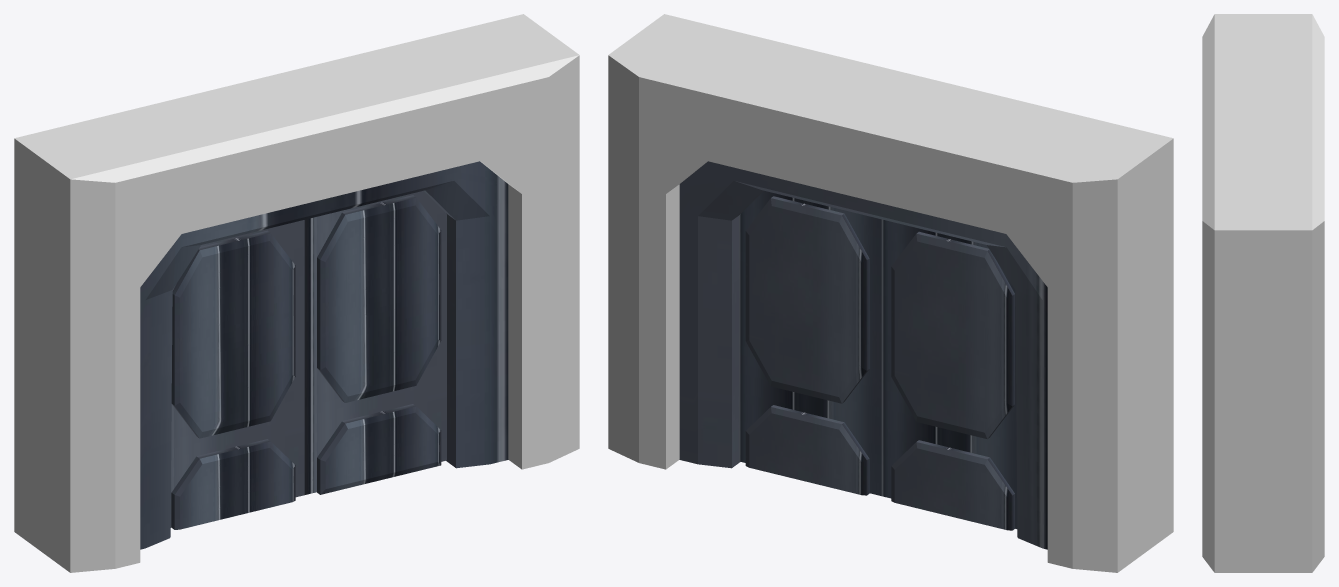
The model's file is Sci-fi door.fbx.
3 renders of one model, left to right at view 1: azimuth 30°, elevation 25°; view 2: azimuth 150°, elevation 25°; view 3: azimuth 270°, elevation 25°, orthographic. The views are drawn at different scales.
Visible parts, largest first — view 1: Cube.001, Cube.024, Cube.027, Cube.029, Cube.025, Cube.030, Cube.028, Cube.026; view 2: Cube.001, Cube.024, Cube.027, Cube.029, Cube.025, Cube.026, Cube.028, Cube.030; view 3: Cube.001.
Part boxes in pixels (box(x1,y1,x2,y2)): Cube.001: box(14, 14, 579, 572); Cube.024: box(140, 161, 508, 549); Cube.027: box(317, 195, 441, 402); Cube.029: box(171, 230, 295, 438); Cube.025: box(304, 191, 446, 494); Cube.030: box(171, 439, 295, 529); Cube.028: box(317, 404, 441, 494); Cube.026: box(170, 220, 304, 527); Cube.001: box(608, 14, 1173, 572); Cube.024: box(679, 161, 1047, 549); Cube.027: box(745, 196, 869, 403); Cube.029: box(891, 231, 1014, 439); Cube.025: box(739, 191, 881, 495); Cube.026: box(881, 219, 1017, 528); Cube.028: box(745, 405, 869, 495); Cube.030: box(891, 440, 1014, 530); Cube.001: box(1202, 14, 1324, 572).
Bounding box in the file's own units: 838 × 619 × 200.
1 material, 1 textured.
